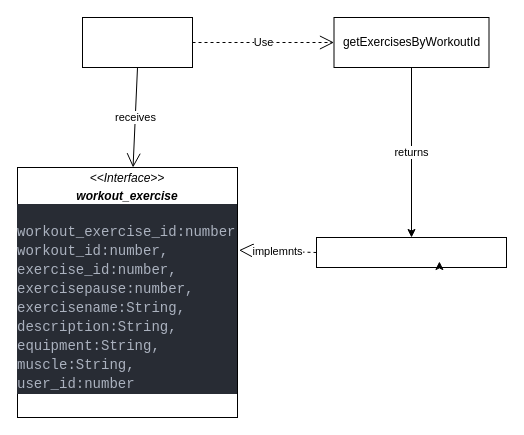
The diagram is 524 pixels wide and 435 high, and some of its shapes have lost their labels. The centre of each missing label's shape, as x and y in pixels:
DataService: the point at 137,42
workout_exericse_adapter: the point at 411,252
